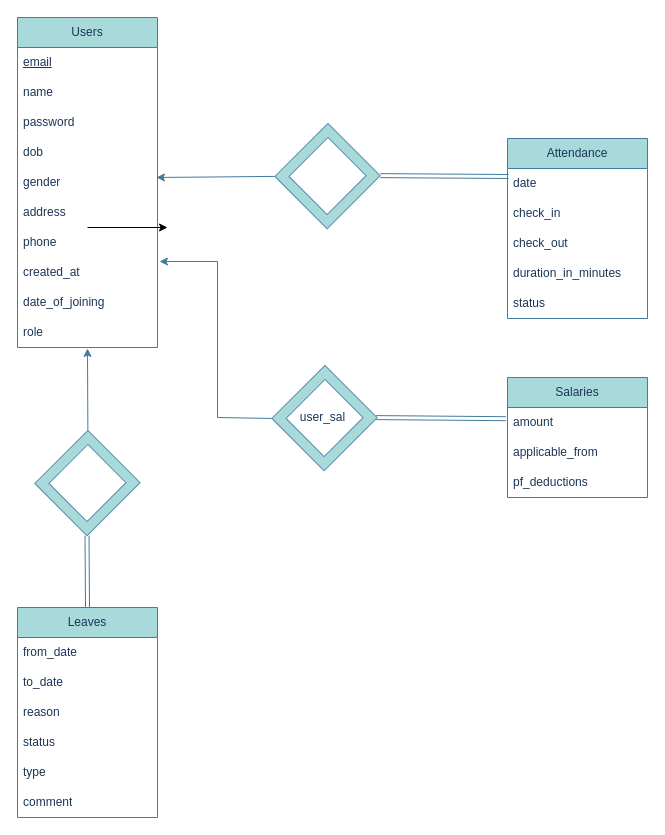
Image size: 665x835. Some labels were removed from this diagram. Here are the shapes that lost their labels. From the top down, the centre of each, then its label:
At (x=327, y=175): "user_att".
At (x=87, y=482): "user_leave".
